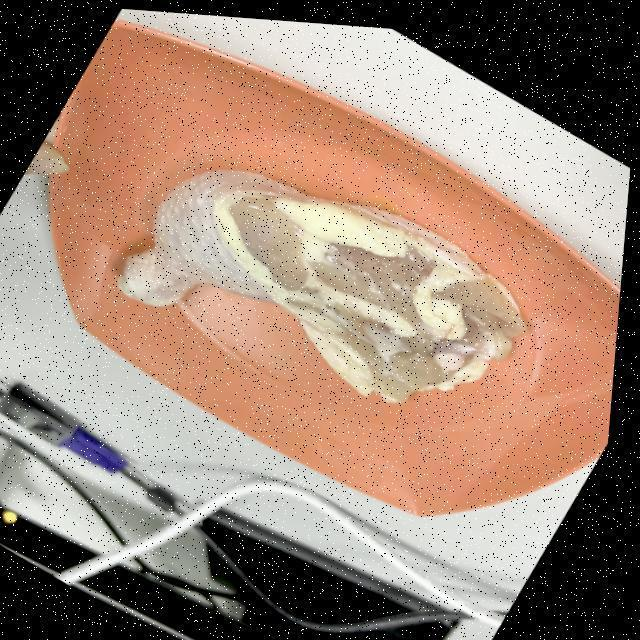quater: (119, 158, 505, 406)
